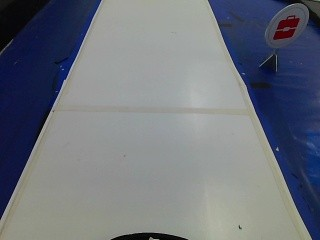company: (266, 2, 306, 47)
